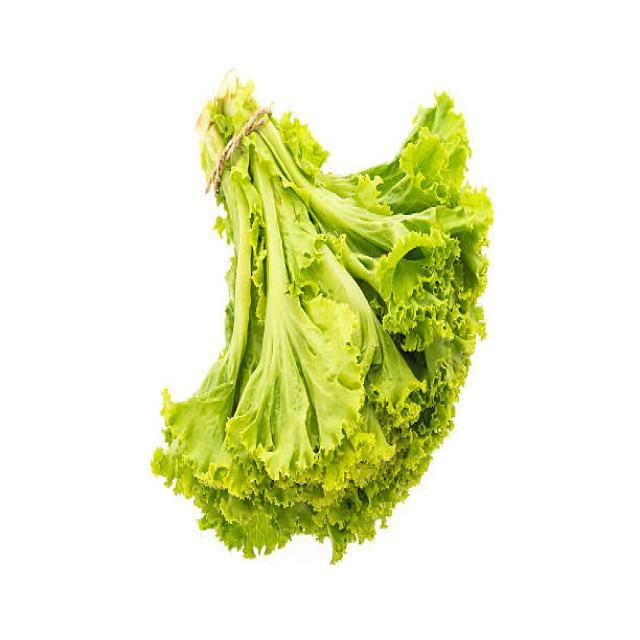Lettuce-Ready-to-Harvest: (169, 71, 494, 556)
